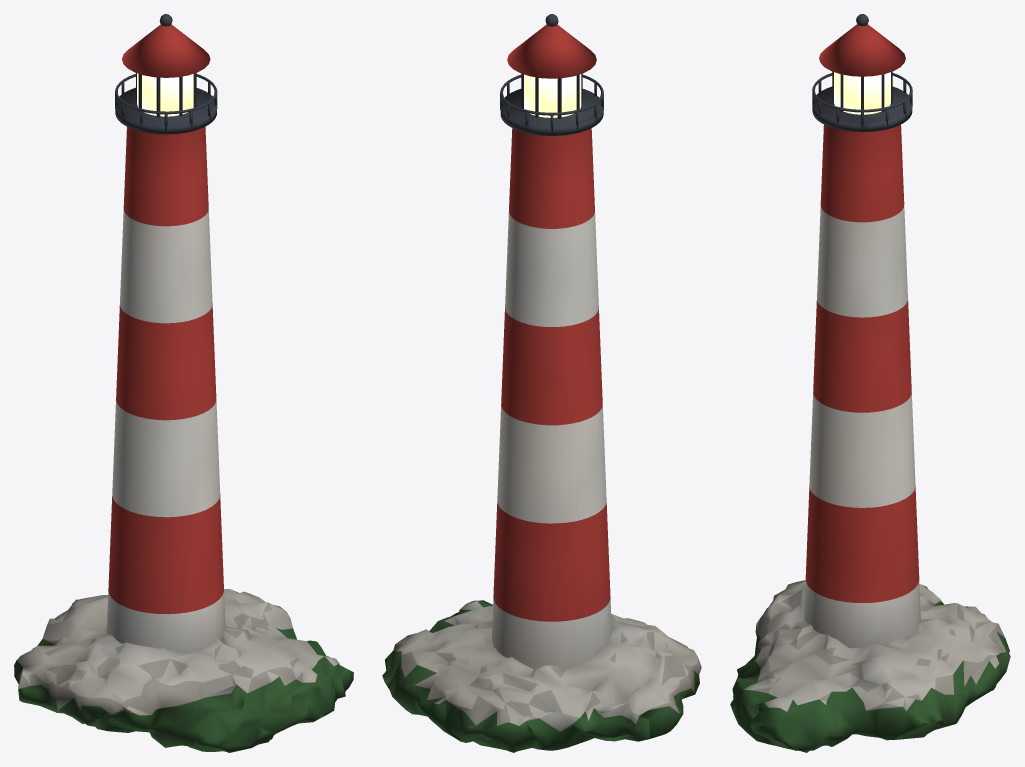
File: shore_lighthouse.glb
The picture shows the model from 3 angles, left to right: view 1: azimuth 30°, elevation 25°; view 2: azimuth 150°, elevation 25°; view 3: azimuth 270°, elevation 25°; orthographic projection. The views are drawn at different scales.
Visible parts, largest first — view 1: shore_lighthouse; view 2: shore_lighthouse; view 3: shore_lighthouse.
Part boxes in pixels (box(x1,y1,x2,y2)): shore_lighthouse: box(14, 14, 353, 752); shore_lighthouse: box(382, 14, 701, 752); shore_lighthouse: box(730, 14, 1010, 752).
Size of the model in its own units: 59.1 by 141 by 51.59.
